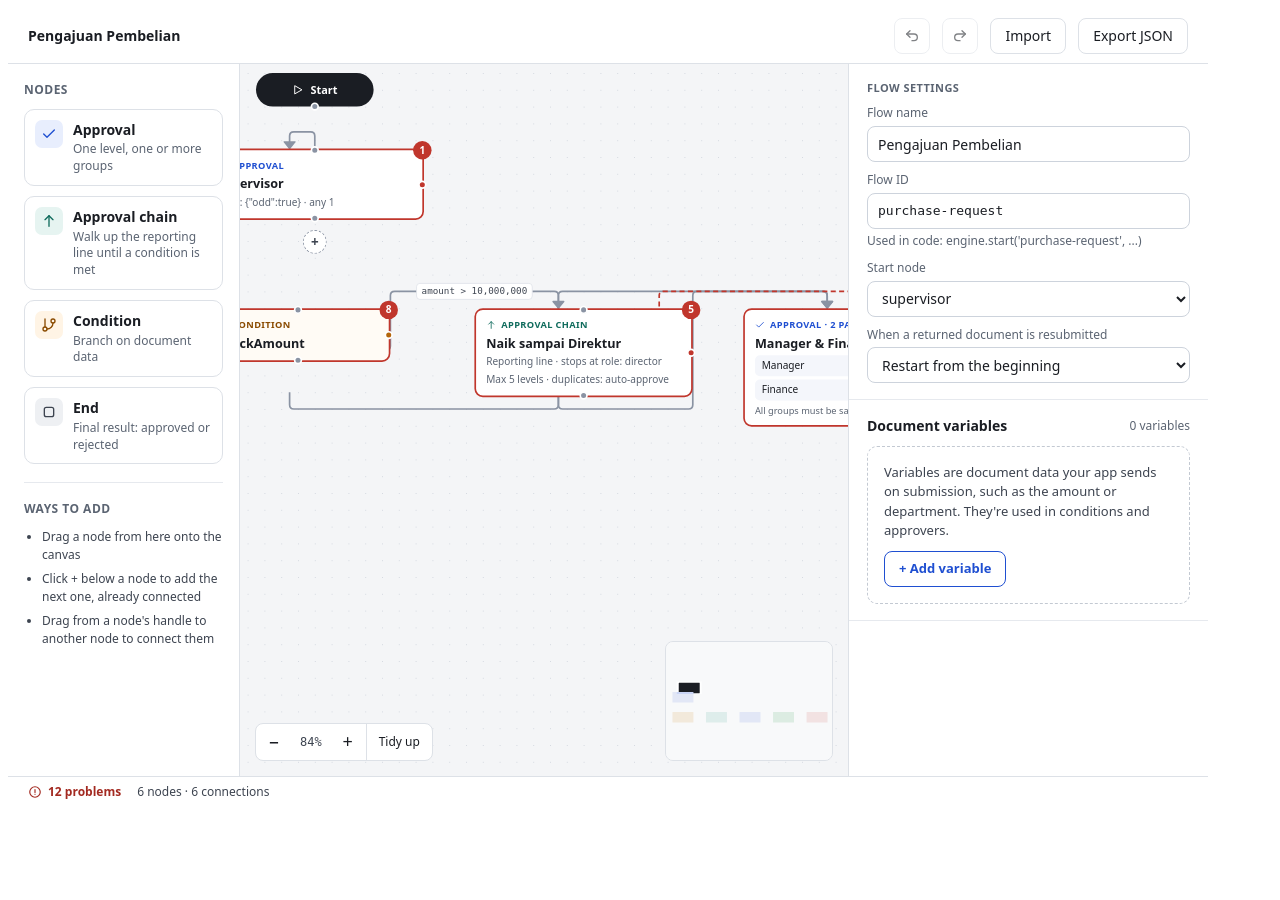
approver sources › suggests adding a user variable for the field type
Click the element with test id "node-supervisor" at (315, 184), box x1=206 y1=149 x2=424 y2=220
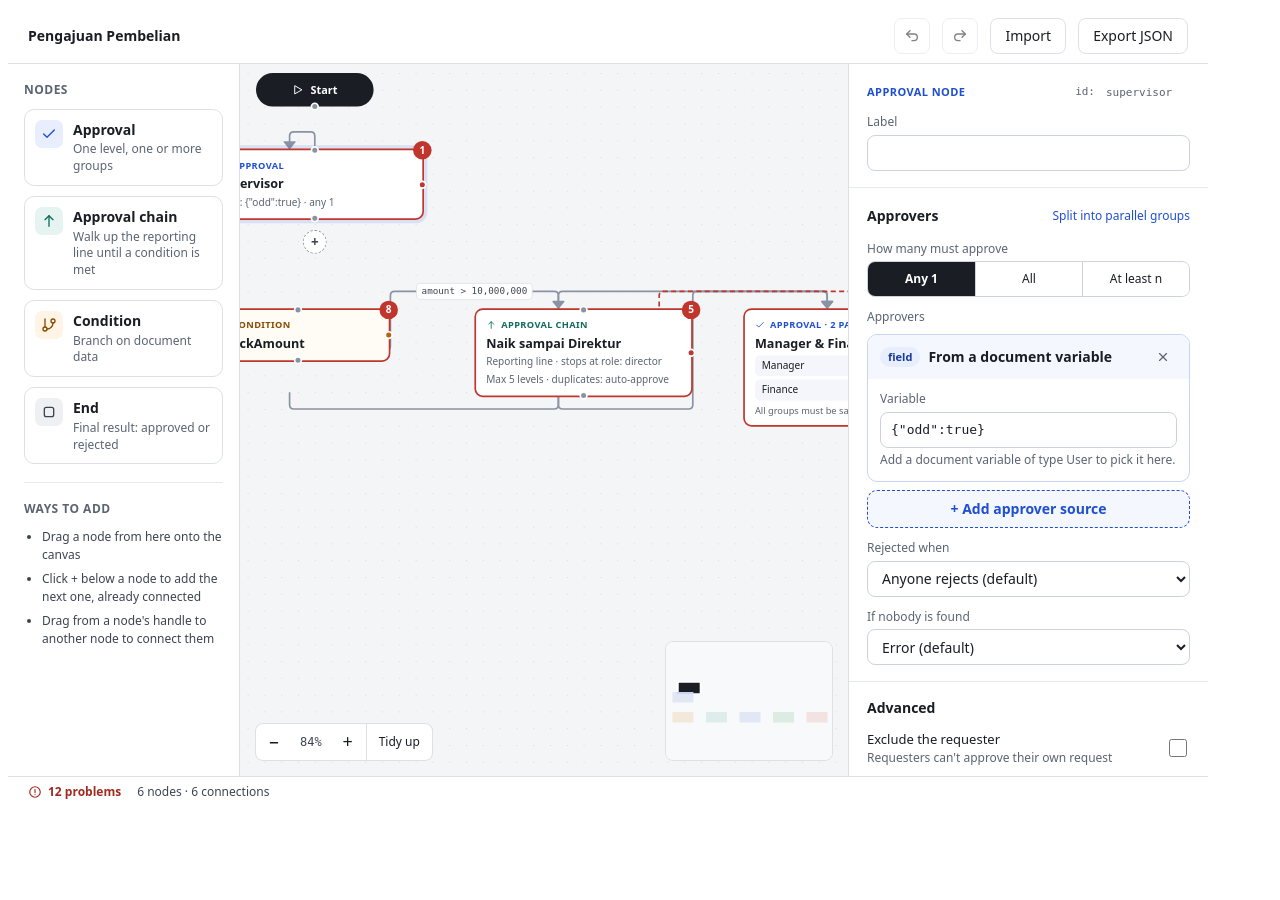
Check: the field named "Node ID" holds "supervisor", box x1=1099 y1=80 x2=1190 y2=104
Check: the text "Add a document variable of type User to pick it here." is shown, box x1=880 y1=452 x2=1177 y2=469
Check: the field labelled "Variable" holds "{\"odd\":true}", box x1=880 y1=412 x2=1177 y2=448
